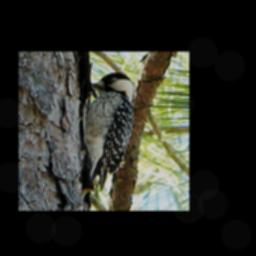Woodpecker: (82, 72, 135, 193)
